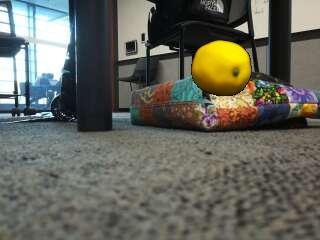lemon: (192, 41, 251, 96)
